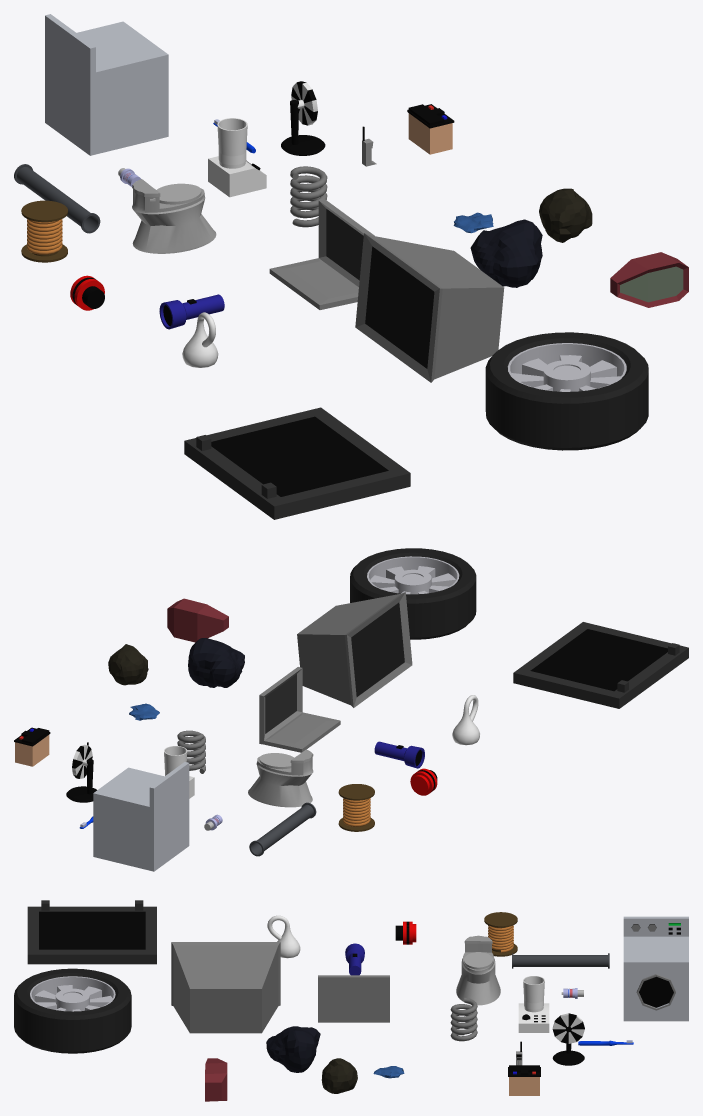
The model's file is junk.glb.
3 renders of one model, top to bottom at view 1: azimuth 30°, elevation 25°; view 2: azimuth 150°, elevation 25°; view 3: azimuth 270°, elevation 25°, orthographic. The views are drawn at different scales.
Visible parts, largest first — view 1: tire, tv, radiator, washing_machine, laptop, toilet, junk_ball2, car_mirror, blender, wire_coil, junk_ball, battery (+6 smaller); view 2: tv, radiator, washing_machine, tire, laptop, toilet, junk_ball2, car_mirror, wire_coil, junk_ball, battery, pipe (+6 smaller); view 3: tv, tire, radiator, washing_machine, laptop, toilet, junk_ball2, blender, fan, pipe, wire_coil, junk_ball (+6 smaller).
Boxes of the visible parts, box(x1,y1,x2,y2) form: tire: box(485, 332, 648, 450); tv: box(355, 233, 504, 382); radiator: box(184, 407, 410, 519); washing_machine: box(45, 14, 168, 155); laptop: box(269, 199, 374, 309); toilet: box(132, 179, 216, 253); junk_ball2: box(470, 219, 542, 287); car_mirror: box(610, 252, 688, 307); blender: box(208, 118, 266, 197); wire_coil: box(21, 200, 67, 262); junk_ball: box(539, 188, 592, 242); battery: box(407, 104, 454, 154); tv: box(297, 592, 412, 707); radiator: box(513, 622, 688, 708); washing_machine: box(93, 762, 189, 871); tire: box(350, 548, 476, 639); laptop: box(259, 667, 340, 752); toilet: box(248, 749, 313, 807); junk_ball2: box(188, 638, 244, 687); car_mirror: box(167, 598, 228, 642); wire_coil: box(338, 784, 374, 831); junk_ball: box(108, 644, 148, 685); battery: box(14, 727, 50, 766); pipe: box(249, 802, 316, 856); tv: box(171, 942, 280, 1033); tire: box(14, 968, 131, 1053); radiator: box(27, 900, 156, 964); washing_machine: box(623, 916, 688, 1021); laptop: box(318, 975, 389, 1022); toilet: box(456, 935, 500, 1005); junk_ball2: box(266, 1026, 320, 1072); blender: box(518, 976, 549, 1032); fan: box(552, 1013, 584, 1065); pipe: box(512, 953, 609, 968); wire_coil: box(484, 912, 517, 956); junk_ball: box(321, 1058, 357, 1093).
Size of the model in its own units: 4.6 by 0.9693 by 6.95.
